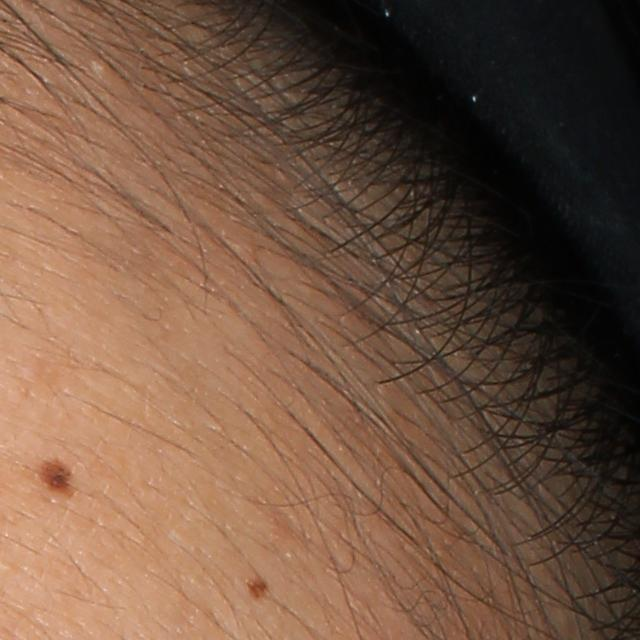comedo: (88, 53, 117, 83)
nevus: (33, 455, 79, 496), (239, 576, 271, 598)
